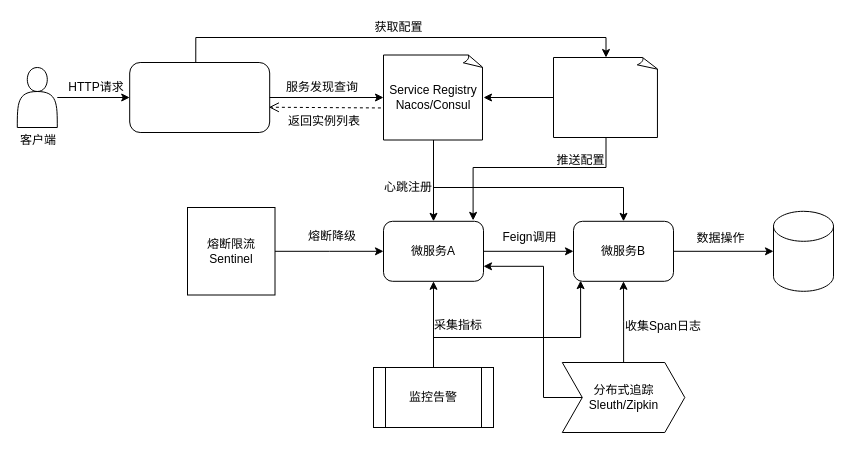
This 852x450 diagram has some shape labels left out. Each missing label, with the centre of its shape:
API Gateway Spring Cloud Gateway 动态路由: the point at 199,97
Config Server Git/SVN 配置: the point at 605,97
数据库/ 外部服务: the point at 803,250
